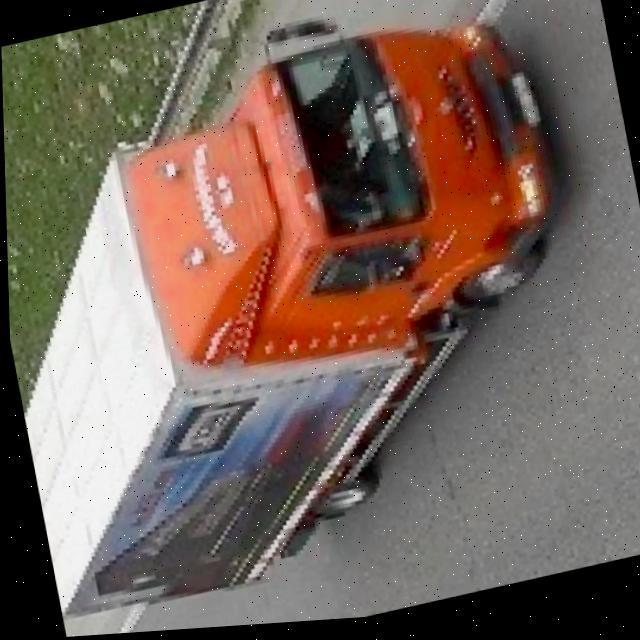truck: (1, 0, 626, 631)
